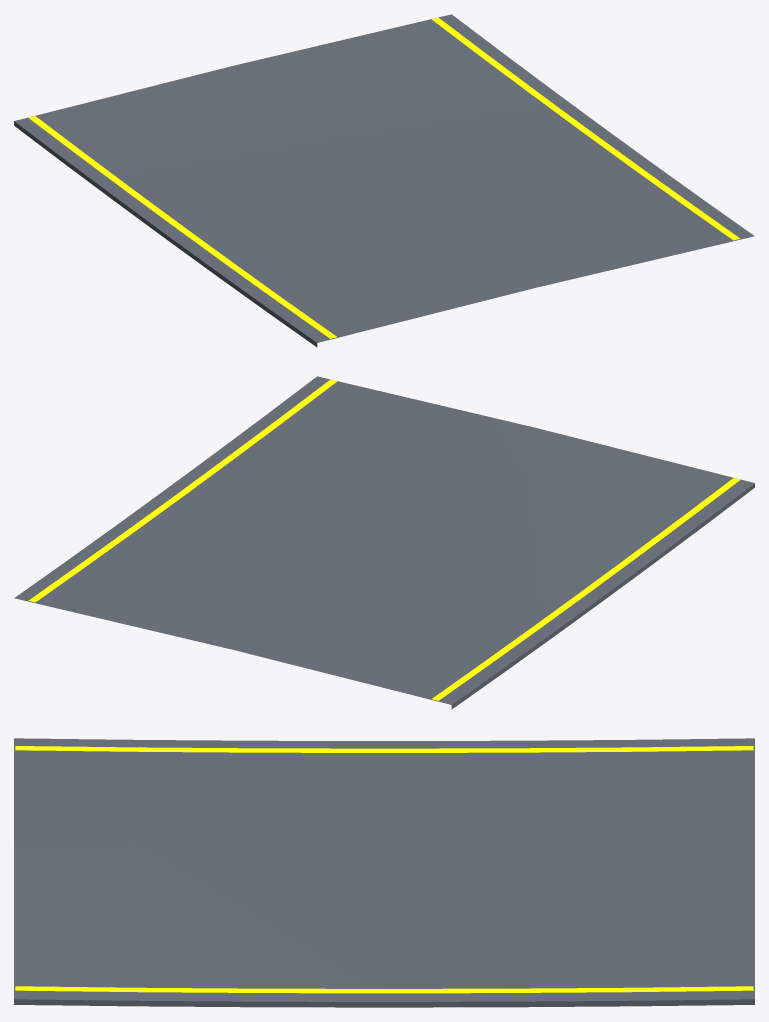
Rendered from ext_road_curved_R185_05.glb.
3 views of the same model, one above another, from view 1: azimuth 30°, elevation 25°; view 2: azimuth 150°, elevation 25°; view 3: azimuth 270°, elevation 25° (orthographic). The views are drawn at different scales.
Visible parts, largest first — view 1: Road, Edge_Lines; view 2: Road, Edge_Lines; view 3: Road, Edge_Lines.
Part boxes in pixels (left/top/right/bottom): Road: left=14, top=14, right=754, bottom=347; Edge_Lines: left=28, top=17, right=740, bottom=338; Road: left=14, top=376, right=754, bottom=709; Edge_Lines: left=28, top=379, right=740, bottom=700; Road: left=14, top=738, right=754, bottom=1007; Edge_Lines: left=15, top=746, right=753, bottom=993.
Size of the model in its own units: 4.99 by 0.0942 by 5.99.
